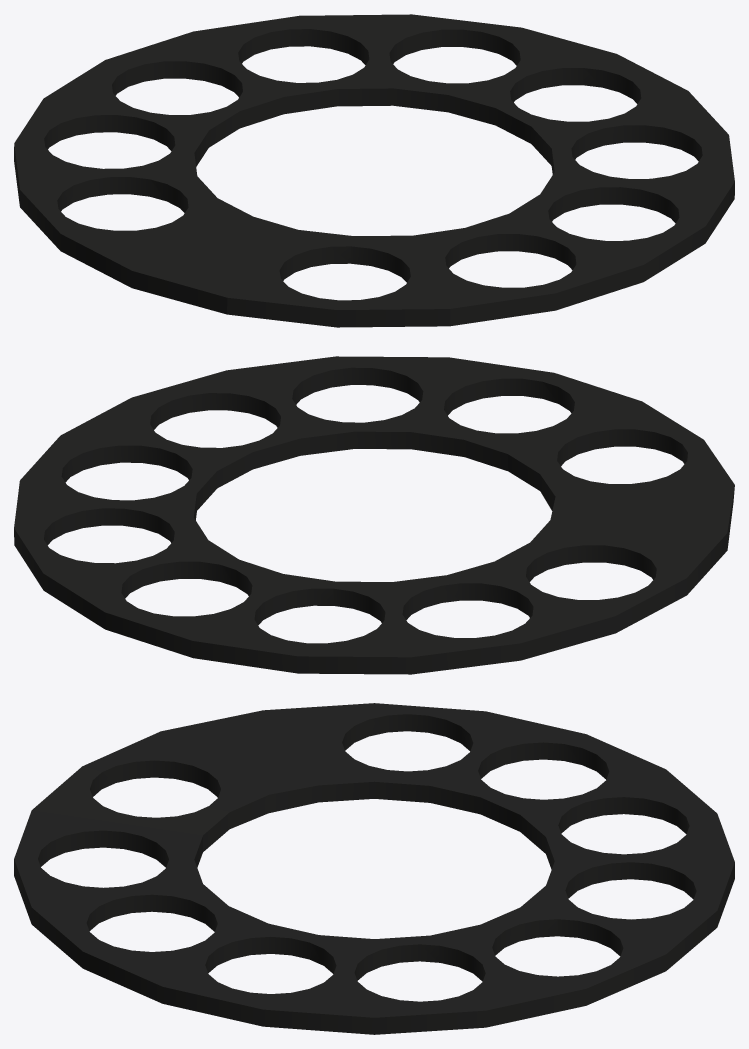
Rendered from rotaryphonedialpiece.glb.
The picture shows the model from 3 angles, top to bottom: view 1: azimuth 30°, elevation 25°; view 2: azimuth 150°, elevation 25°; view 3: azimuth 270°, elevation 25°; orthographic projection.
Visible parts, largest first — view 1: dial; view 2: dial; view 3: dial.
Part boxes in pixels (x1,y1,x2,y2): dial: [14, 14, 734, 327]; dial: [14, 356, 734, 674]; dial: [14, 703, 734, 1034].
Size of the model in its own units: 0.0207 by 0.000886 by 0.0207.
Materials: 1 (1 with a texture image).
